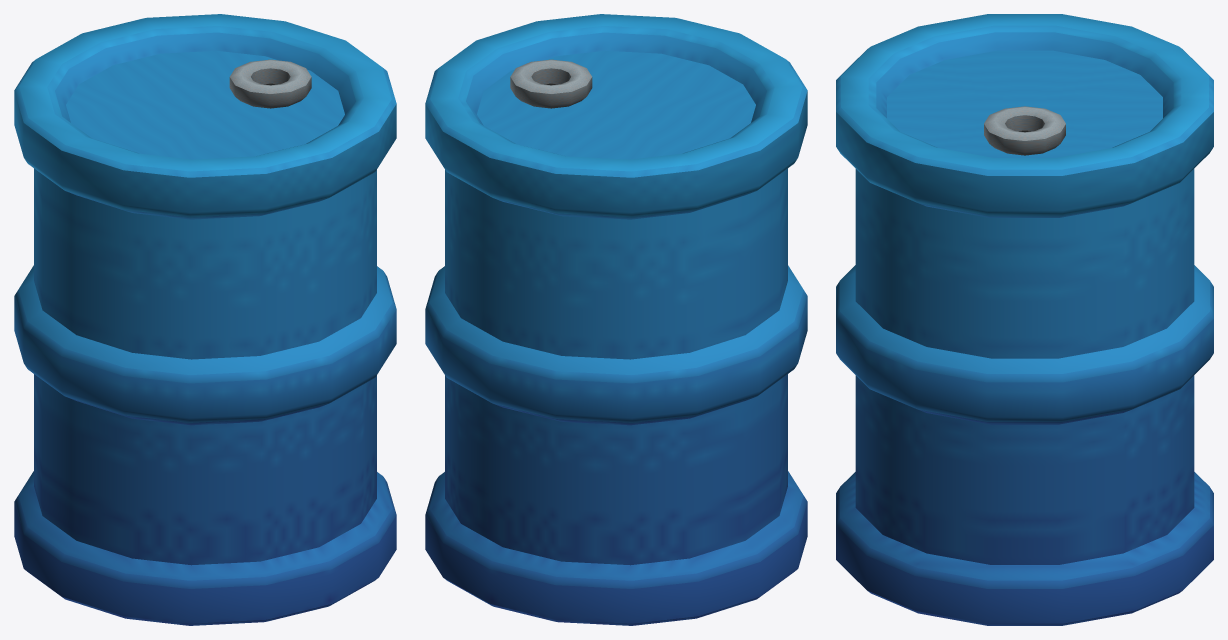
File: Fuel_C_Barrel.gltf
3 renders of one model, left to right at view 1: azimuth 30°, elevation 25°; view 2: azimuth 150°, elevation 25°; view 3: azimuth 270°, elevation 25°, orthographic.
Visible parts, largest first — view 1: Fuel_C_Barrel; view 2: Fuel_C_Barrel; view 3: Fuel_C_Barrel.
Part boxes in pixels (x1,y1,x2,y2): Fuel_C_Barrel: (14,14,396,625); Fuel_C_Barrel: (425,14,807,625); Fuel_C_Barrel: (836,14,1213,625).
Size of the model in its own units: 0.75 by 1.01 by 0.75.
Materials: 1 (1 with a texture image).
